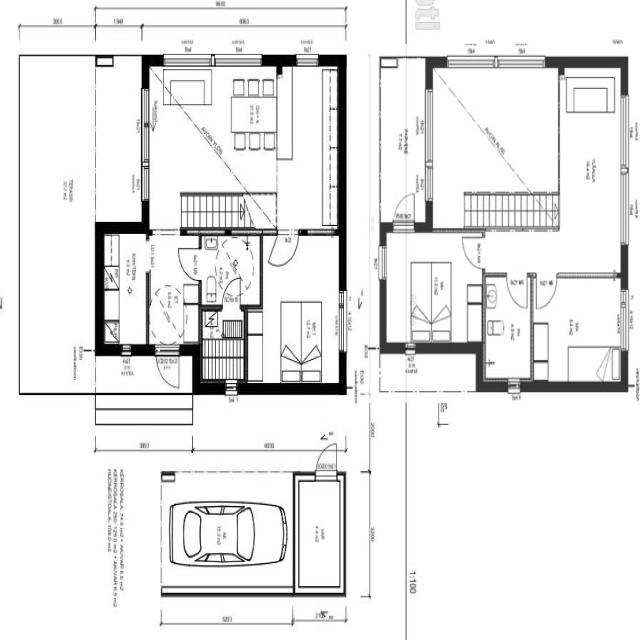door: (176, 244, 203, 284), (155, 346, 180, 389), (274, 228, 300, 268), (461, 233, 485, 270), (534, 273, 558, 310), (506, 272, 529, 309), (315, 442, 338, 478), (221, 276, 242, 309), (393, 194, 415, 224)
window: (138, 84, 154, 177), (616, 166, 632, 250), (161, 49, 214, 72), (422, 86, 436, 170), (616, 90, 630, 172), (445, 51, 496, 72), (495, 53, 548, 73), (212, 51, 266, 70), (617, 284, 630, 356), (336, 290, 347, 357), (294, 52, 322, 70), (109, 50, 142, 65), (424, 162, 435, 202), (377, 243, 387, 282), (140, 164, 150, 202), (144, 237, 154, 274), (505, 377, 523, 397), (223, 380, 240, 395), (120, 342, 134, 356), (403, 342, 418, 355)
zone: (147, 62, 340, 226), (430, 64, 559, 227), (559, 70, 625, 272), (261, 230, 343, 392), (382, 224, 483, 345), (532, 275, 623, 385), (148, 231, 198, 347), (297, 472, 342, 594), (103, 230, 148, 348), (483, 276, 532, 383), (200, 232, 260, 304), (200, 307, 244, 385)
